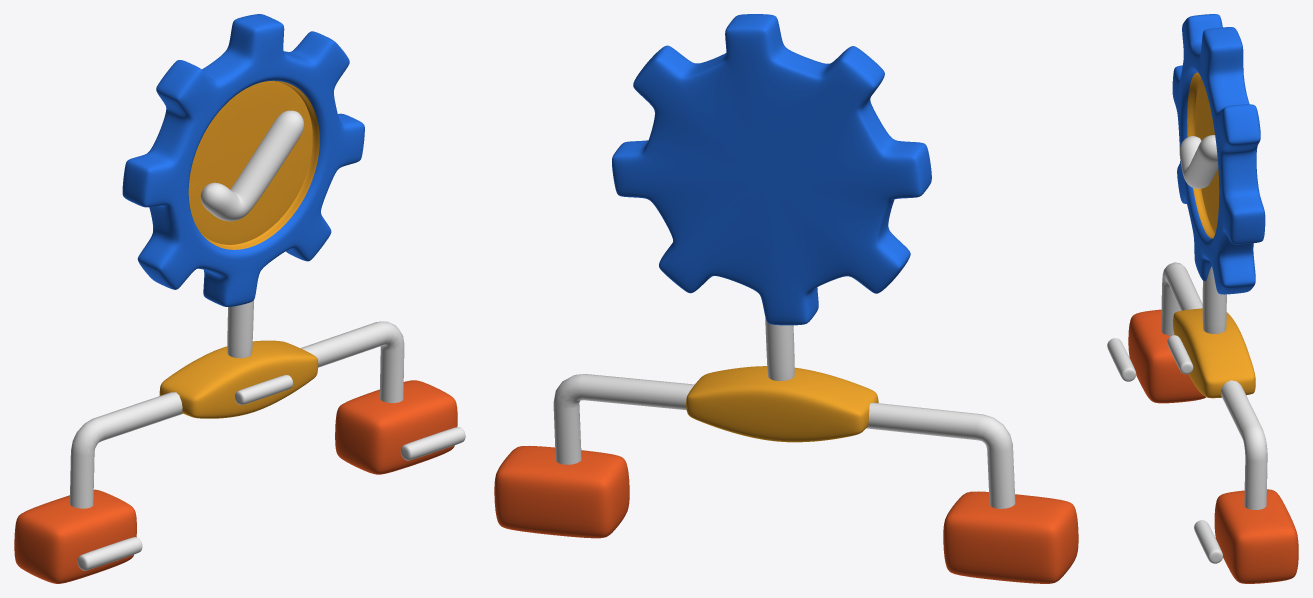
The model's file is workflow-3d-animated-icon-1445591898822.glb.
3 views of the same model, side by side, from view 1: azimuth 30°, elevation 25°; view 2: azimuth 150°, elevation 25°; view 3: azimuth 270°, elevation 25° (orthographic). The views are drawn at different scales.
Parts seen in each view (by area): view 1: gear, cap gear, pipe 2, cube 3, cube 2, Cube 1, checklist, pipe 1, data 2, data 3, data 1; view 2: gear, Cube 1, pipe 2, cube 3, cube 2, pipe 1; view 3: gear, cube 3, pipe 2, Cube 1, cube 2, checklist, cap gear, pipe 1, data 3, data 2, data 1.
Boxes of the visible parts, x1,y1,x2,y2 form: gear: (122,14,364,306); cap gear: (188,81,312,244); pipe 2: (69,321,404,508); cube 3: (335,380,457,474); cube 2: (14,489,136,583); Cube 1: (159,340,318,418); checklist: (200,110,304,221); pipe 1: (227,300,253,358); data 2: (77,537,142,570); data 3: (400,427,465,460); data 1: (234,375,293,404); gear: (612,14,931,325); Cube 1: (686,366,878,442); pipe 2: (553,374,1015,508); cube 3: (494,445,629,538); cube 2: (943,491,1078,583); pipe 1: (765,317,794,380); gear: (1172,14,1265,294); cube 3: (1214,489,1298,583); pipe 2: (1161,262,1267,509); Cube 1: (1173,308,1255,398); cube 2: (1128,309,1205,403); checklist: (1179,135,1218,188); cap gear: (1195,78,1219,232); pipe 1: (1202,266,1226,333); data 3: (1194,520,1222,563); data 2: (1107,338,1136,381); data 1: (1167,335,1193,374).
Size of what is drawn, in the model's own units: 3.52 by 3.49 by 1.32.
